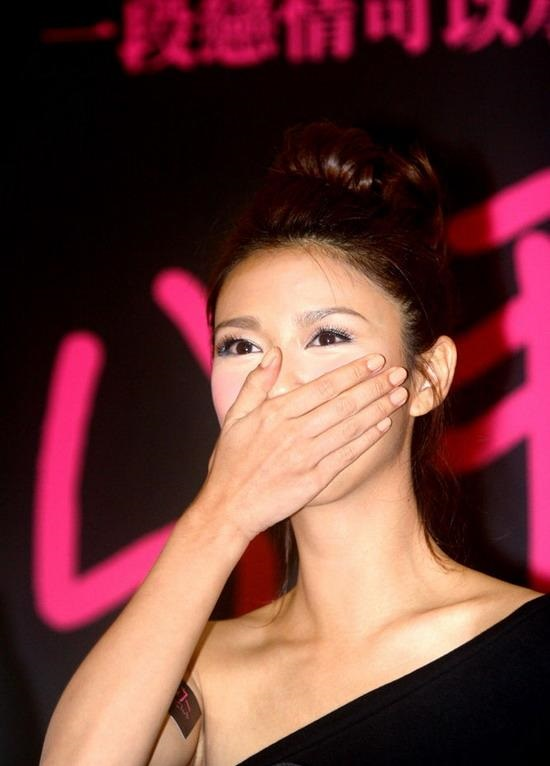face: (209, 251, 400, 515)
